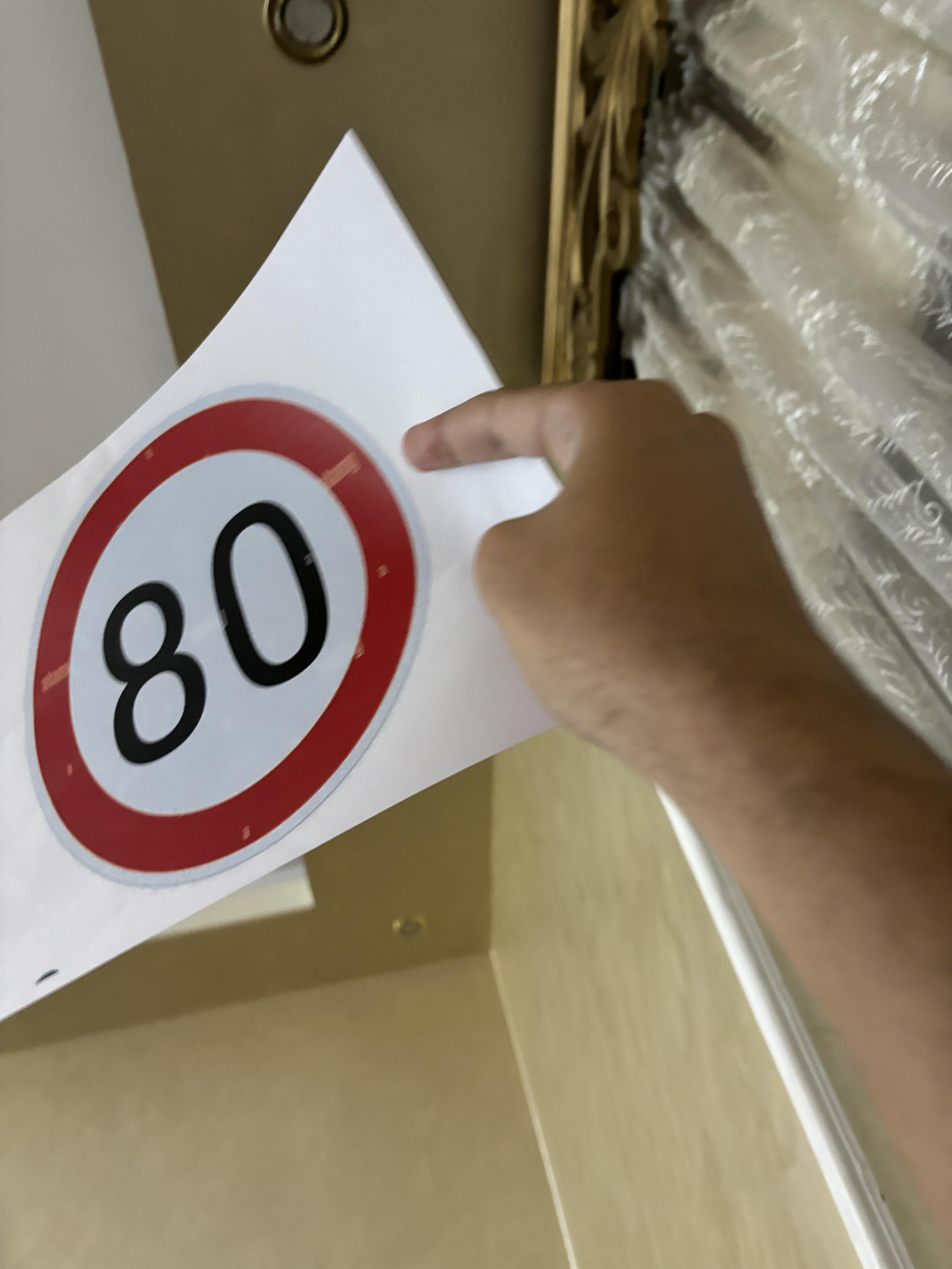80-Speed: (20, 391, 424, 893)
